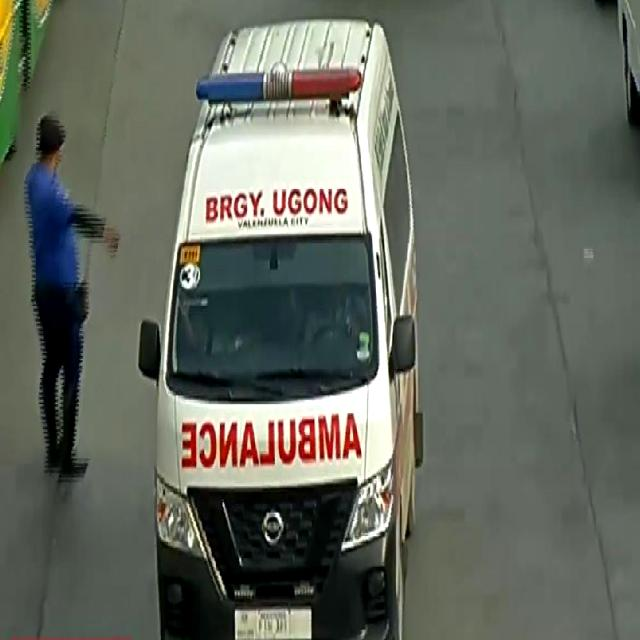emergency: (138, 23, 422, 640)
